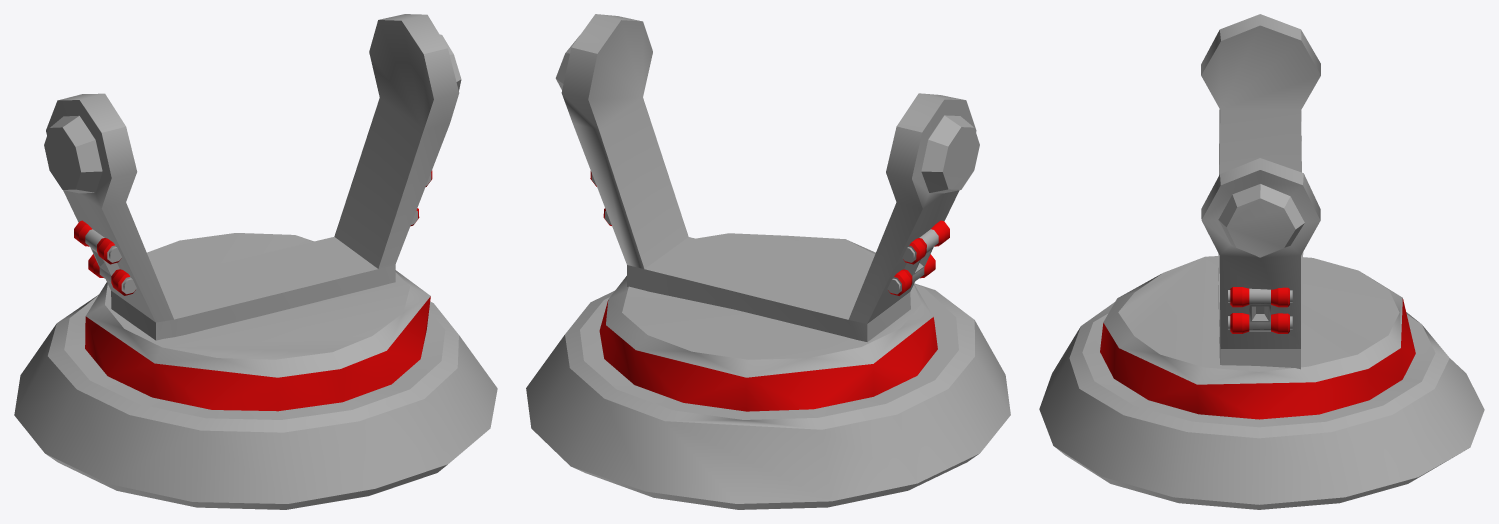
File: Enemy_Turret_Target_Base.fbx
3 views of the same model, side by side, from view 1: azimuth 30°, elevation 25°; view 2: azimuth 150°, elevation 25°; view 3: azimuth 270°, elevation 25° (orthographic). The views are drawn at different scales.
Visible parts, largest first — view 1: Enemy_Turret_Target_Body; view 2: Enemy_Turret_Target_Body; view 3: Enemy_Turret_Target_Body.
Boxes of the visible parts, x1,y1,x2,y2 form: Enemy_Turret_Target_Body: (14, 14, 497, 509); Enemy_Turret_Target_Body: (526, 14, 1010, 509); Enemy_Turret_Target_Body: (1039, 14, 1484, 509).
Bounding box in the file's own units: 3.27 × 2.64 × 3.24.
